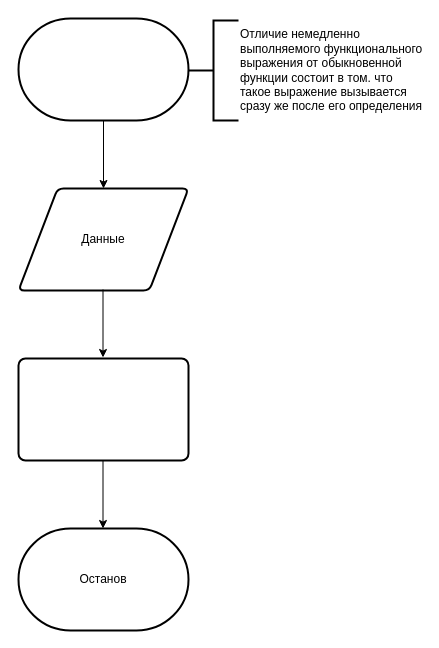
Some shapes in this 439 by 648 pixel diagram are drawn without their labels. Here are the shapes that lost their labels. From the top down, the centre of each, then its label:
At point (103, 69): "Запуск".
At point (103, 409): "Функция выполняет свои операции с переданными данными".
